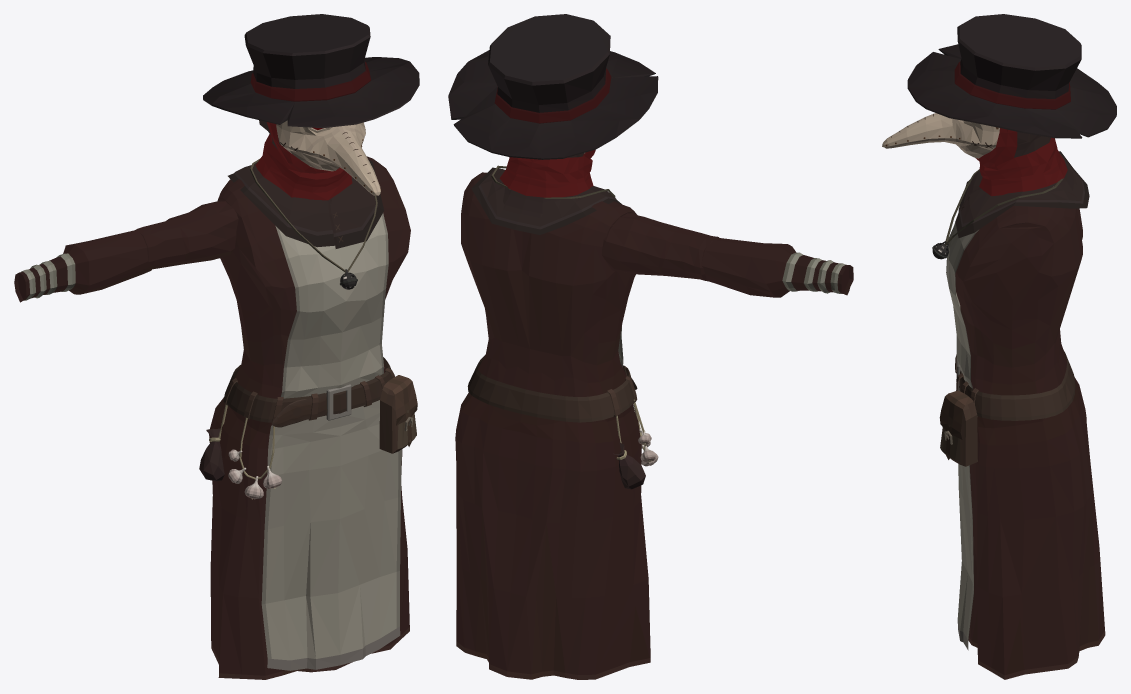
Rendered from plagueDoctorFemale.glb.
The picture shows the model from 3 angles, left to right: view 1: azimuth 30°, elevation 25°; view 2: azimuth 150°, elevation 25°; view 3: azimuth 270°, elevation 25°; orthographic projection. The views are drawn at different scales.
Parts seen in each view (by area): view 1: plagueDoctorBody, plagueDoctorHat, plagueDoctorLowerArm, plagueDoctorUpperArm; view 2: plagueDoctorBody, plagueDoctorHat, plagueDoctorLowerArm, plagueDoctorUpperArm; view 3: plagueDoctorBody, plagueDoctorHat.
Part boxes in pixels (x1,y1,x2,y2): plagueDoctorBody: (199,156,417,679); plagueDoctorHat: (203,14,419,203); plagueDoctorLowerArm: (14,229,152,302); plagueDoctorUpperArm: (135,201,238,269); plagueDoctorBody: (455,165,658,679); plagueDoctorHat: (448,14,658,213); plagueDoctorLowerArm: (701,238,853,297); plagueDoctorUpperArm: (601,213,719,281); plagueDoctorBody: (932,151,1105,679); plagueDoctorHat: (882,14,1116,196).
Bounding box in the file's own units: 1.01 × 1.54 × 0.5444.
